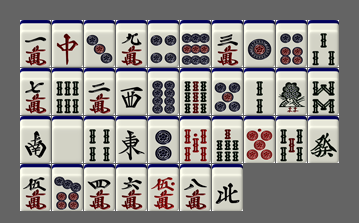0m: (148, 164, 179, 211)
0p: (244, 116, 275, 163)
0s: (180, 116, 211, 163)
1m: (20, 20, 51, 67)
1p: (244, 20, 275, 67)
1s: (276, 68, 307, 115)
1z: (116, 116, 147, 163)
2m: (84, 68, 115, 115)
2p: (148, 116, 179, 163)
2s: (244, 68, 275, 115)
2z: (20, 116, 51, 163)
3m: (212, 20, 243, 67)
3p: (84, 20, 115, 67)
3s: (308, 20, 339, 67)
3z: (116, 68, 147, 115)
4m: (84, 164, 115, 211)
4p: (148, 20, 179, 67)
4s: (84, 116, 115, 163)
4z: (212, 164, 243, 211)
5m: (20, 164, 51, 211)
5p: (212, 68, 243, 115)
5s: (276, 116, 307, 163)
5z: (52, 116, 83, 163)
6m: (116, 164, 147, 211)
6p: (276, 20, 307, 67)
6s: (52, 68, 83, 115)
6z: (308, 116, 339, 163)
7m: (20, 68, 51, 115)
7p: (52, 164, 83, 211)
7s: (212, 116, 243, 163)
7z: (52, 20, 83, 67)
8m: (180, 164, 211, 211)
8p: (148, 68, 179, 115)
8s: (308, 68, 339, 115)
9m: (116, 20, 147, 67)
9p: (180, 20, 211, 67)
9s: (180, 68, 211, 115)
